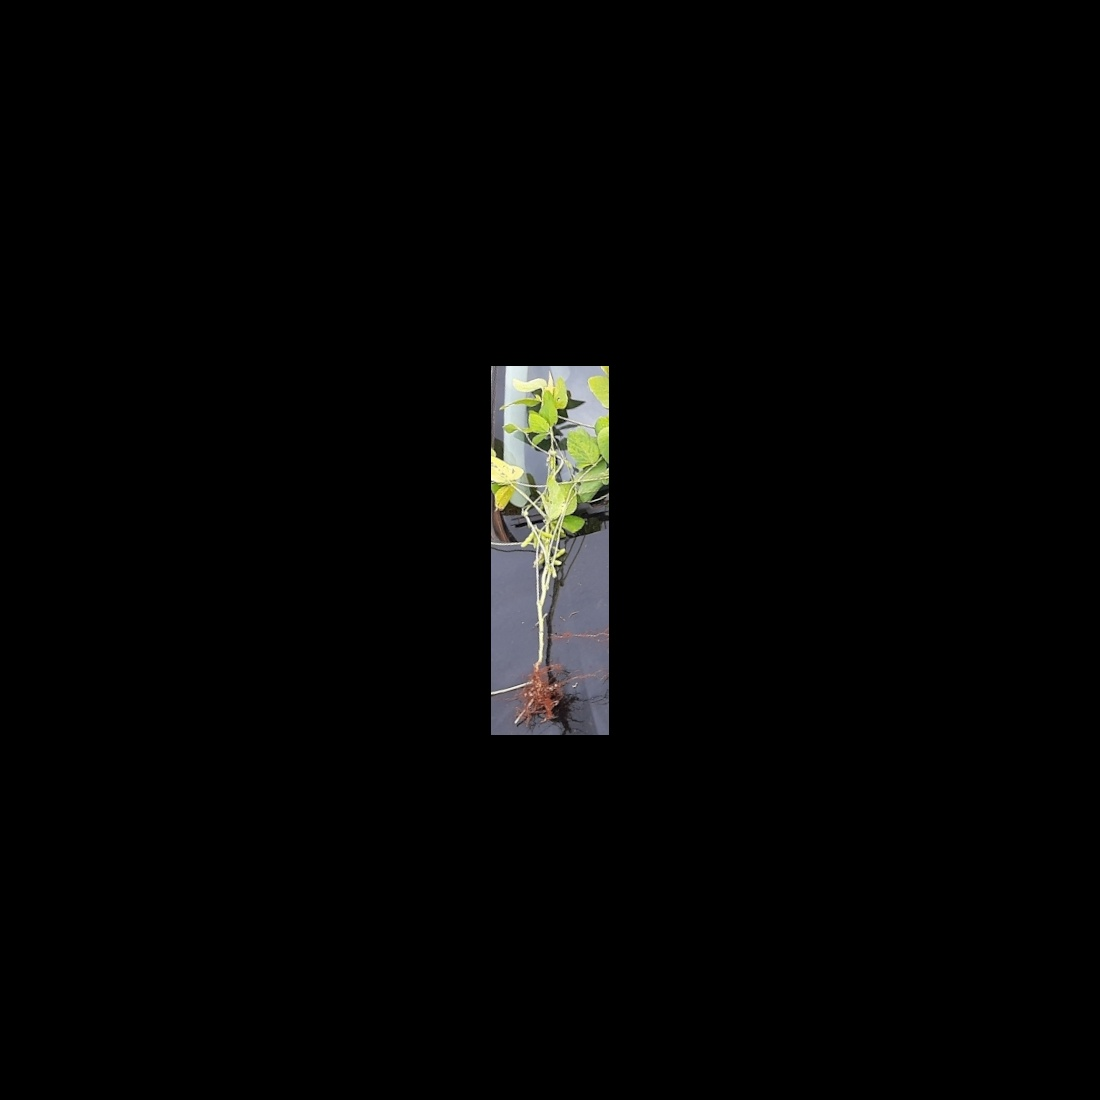pod: (519, 530, 535, 549), (549, 547, 567, 561), (535, 528, 555, 538), (549, 561, 558, 580)
soy: (495, 380, 600, 721)
